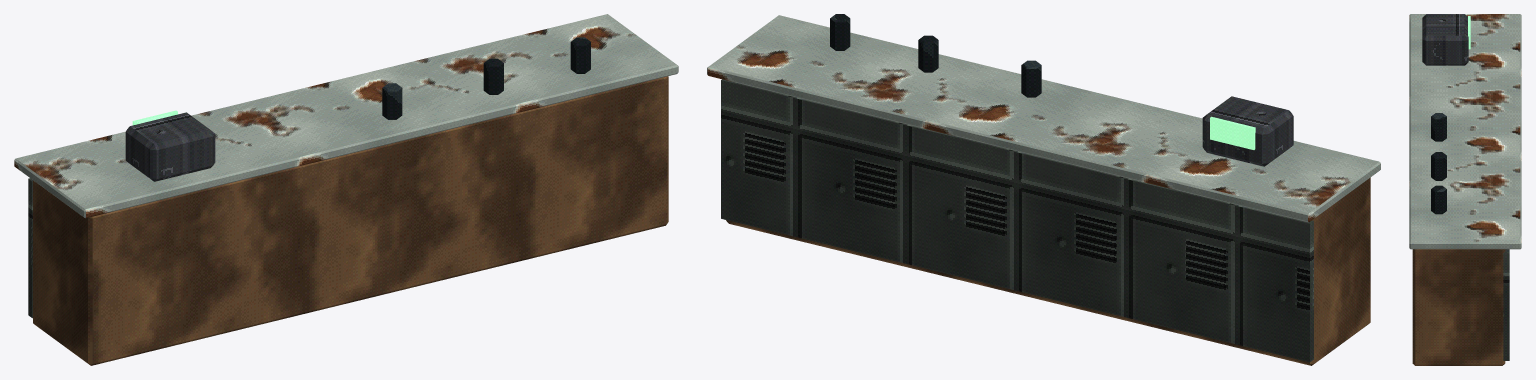
File: int_counter.glb
3 views of the same model, side by side, from view 1: azimuth 30°, elevation 25°; view 2: azimuth 150°, elevation 25°; view 3: azimuth 270°, elevation 25° (orthographic). The views are drawn at different scales.
Parts seen in each view (by area): view 1: int_counter_mesh; view 2: int_counter_mesh; view 3: int_counter_mesh.
Boxes of the visible parts, bbox=[...] form: int_counter_mesh: bbox=[14, 14, 678, 365]; int_counter_mesh: bbox=[707, 14, 1380, 365]; int_counter_mesh: bbox=[1409, 14, 1521, 365].
Size of what is drawn, in the model's own units: 4.1 by 1.32 by 0.85.
6 materials, 6 textured.
